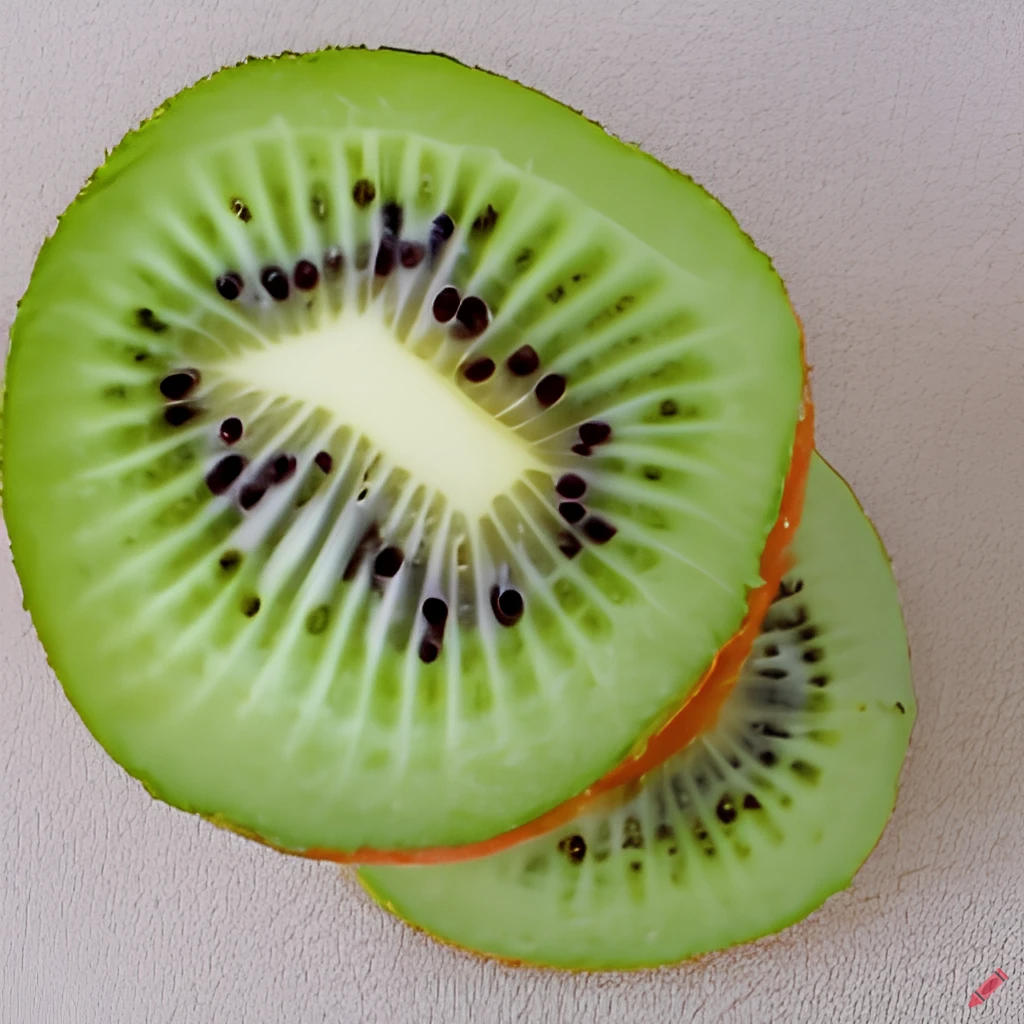Kiwi: (0, 35, 815, 878)
